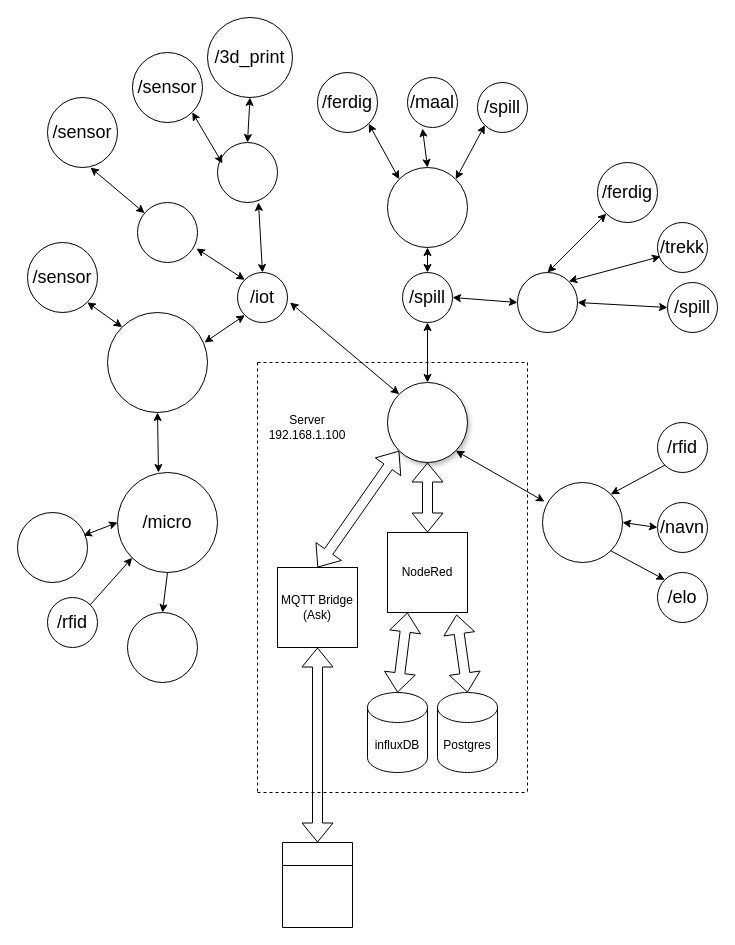
Some shapes in this 735 by 945 pixel diagram are drawn without their labels. Each missing label, with the centre of its shape:
"/access" goes at point (162, 647).
"/bruker" goes at point (582, 522).
"/current" goes at point (52, 547).
"/foosball" goes at point (427, 207).
"/klasserom" goes at point (157, 362).
"/lager" goes at point (247, 172).
"/sjakk" goes at point (547, 302).
"/wc" goes at point (167, 232).
"Discord" goes at point (317, 885).
"MQTT Broaker" goes at point (428, 424).
